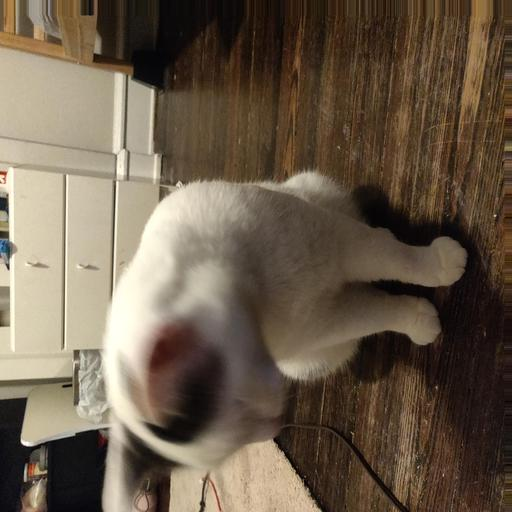cat: (94, 157, 425, 488)
